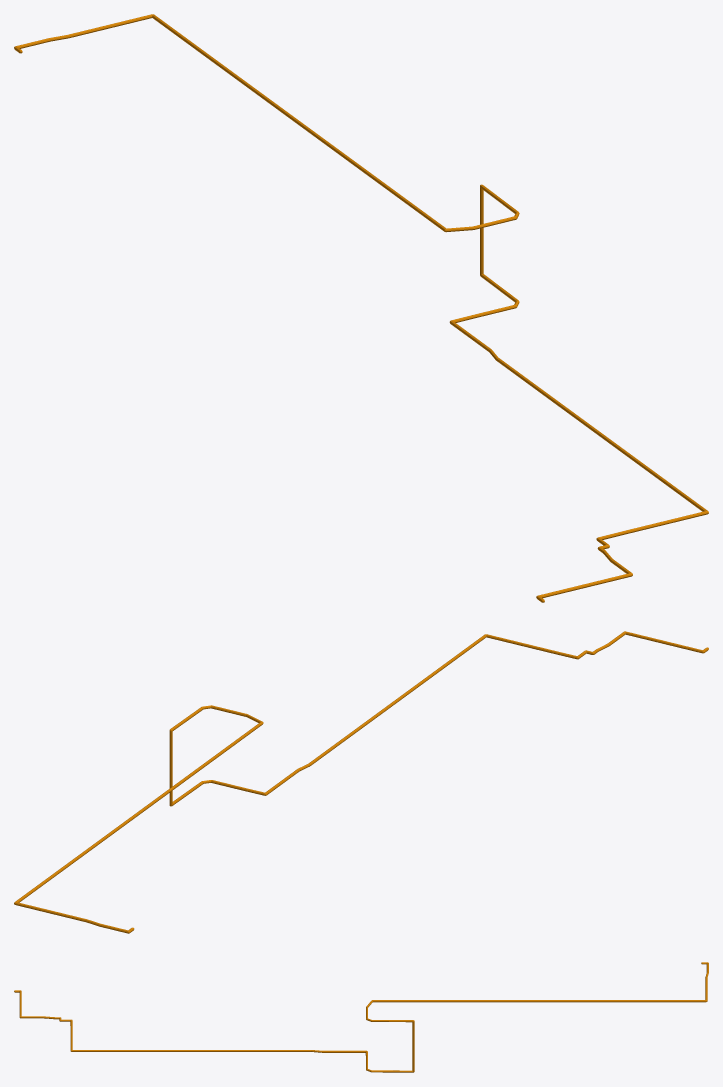
3 views of the same model, one above another, from view 1: azimuth 30°, elevation 25°; view 2: azimuth 150°, elevation 25°; view 3: azimuth 270°, elevation 25° (orthographic). The views are drawn at different scales.
Size of the model in its own units: 1723 by 520 by 6242.
